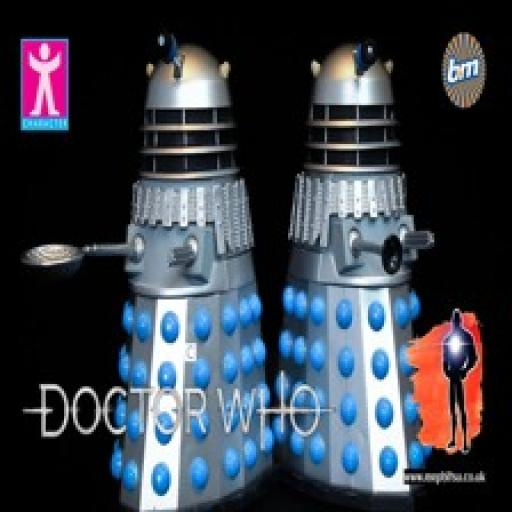dalek: (23, 33, 282, 512), (277, 36, 441, 512)
